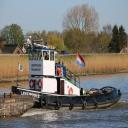tugboat: (12, 38, 123, 114)
